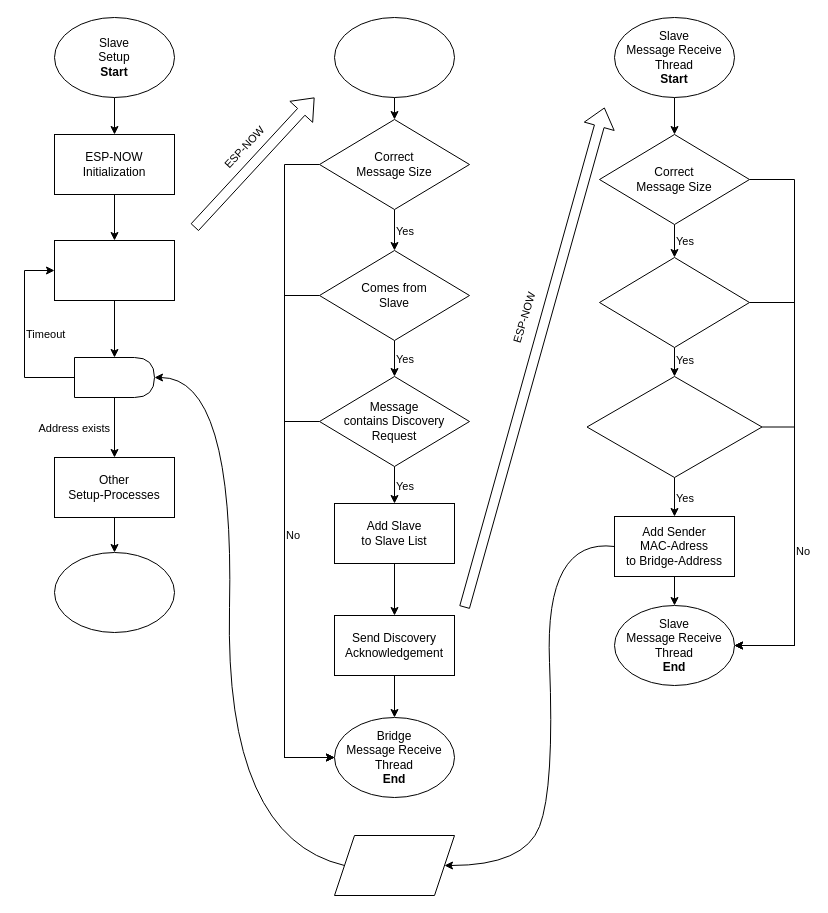
Image size: 828x913. Some labels were removed from this diagram. The shapes that lost their labels are listed below. From the top down, each one's box as (x1, y1, x2, y2) in pixels, then its label:
(334, 16, 454, 98): Bridge Message Receive Thread Start
(54, 240, 174, 300): Send Bridge Discovery Broadcast
(598, 256, 750, 348): Comes from Bridge
(74, 356, 154, 398): Await Address
(586, 376, 762, 478): Message contains Discovery Acknowledgement
(54, 552, 174, 632): Slave Setup End
(334, 834, 454, 896): Bridge-Address
